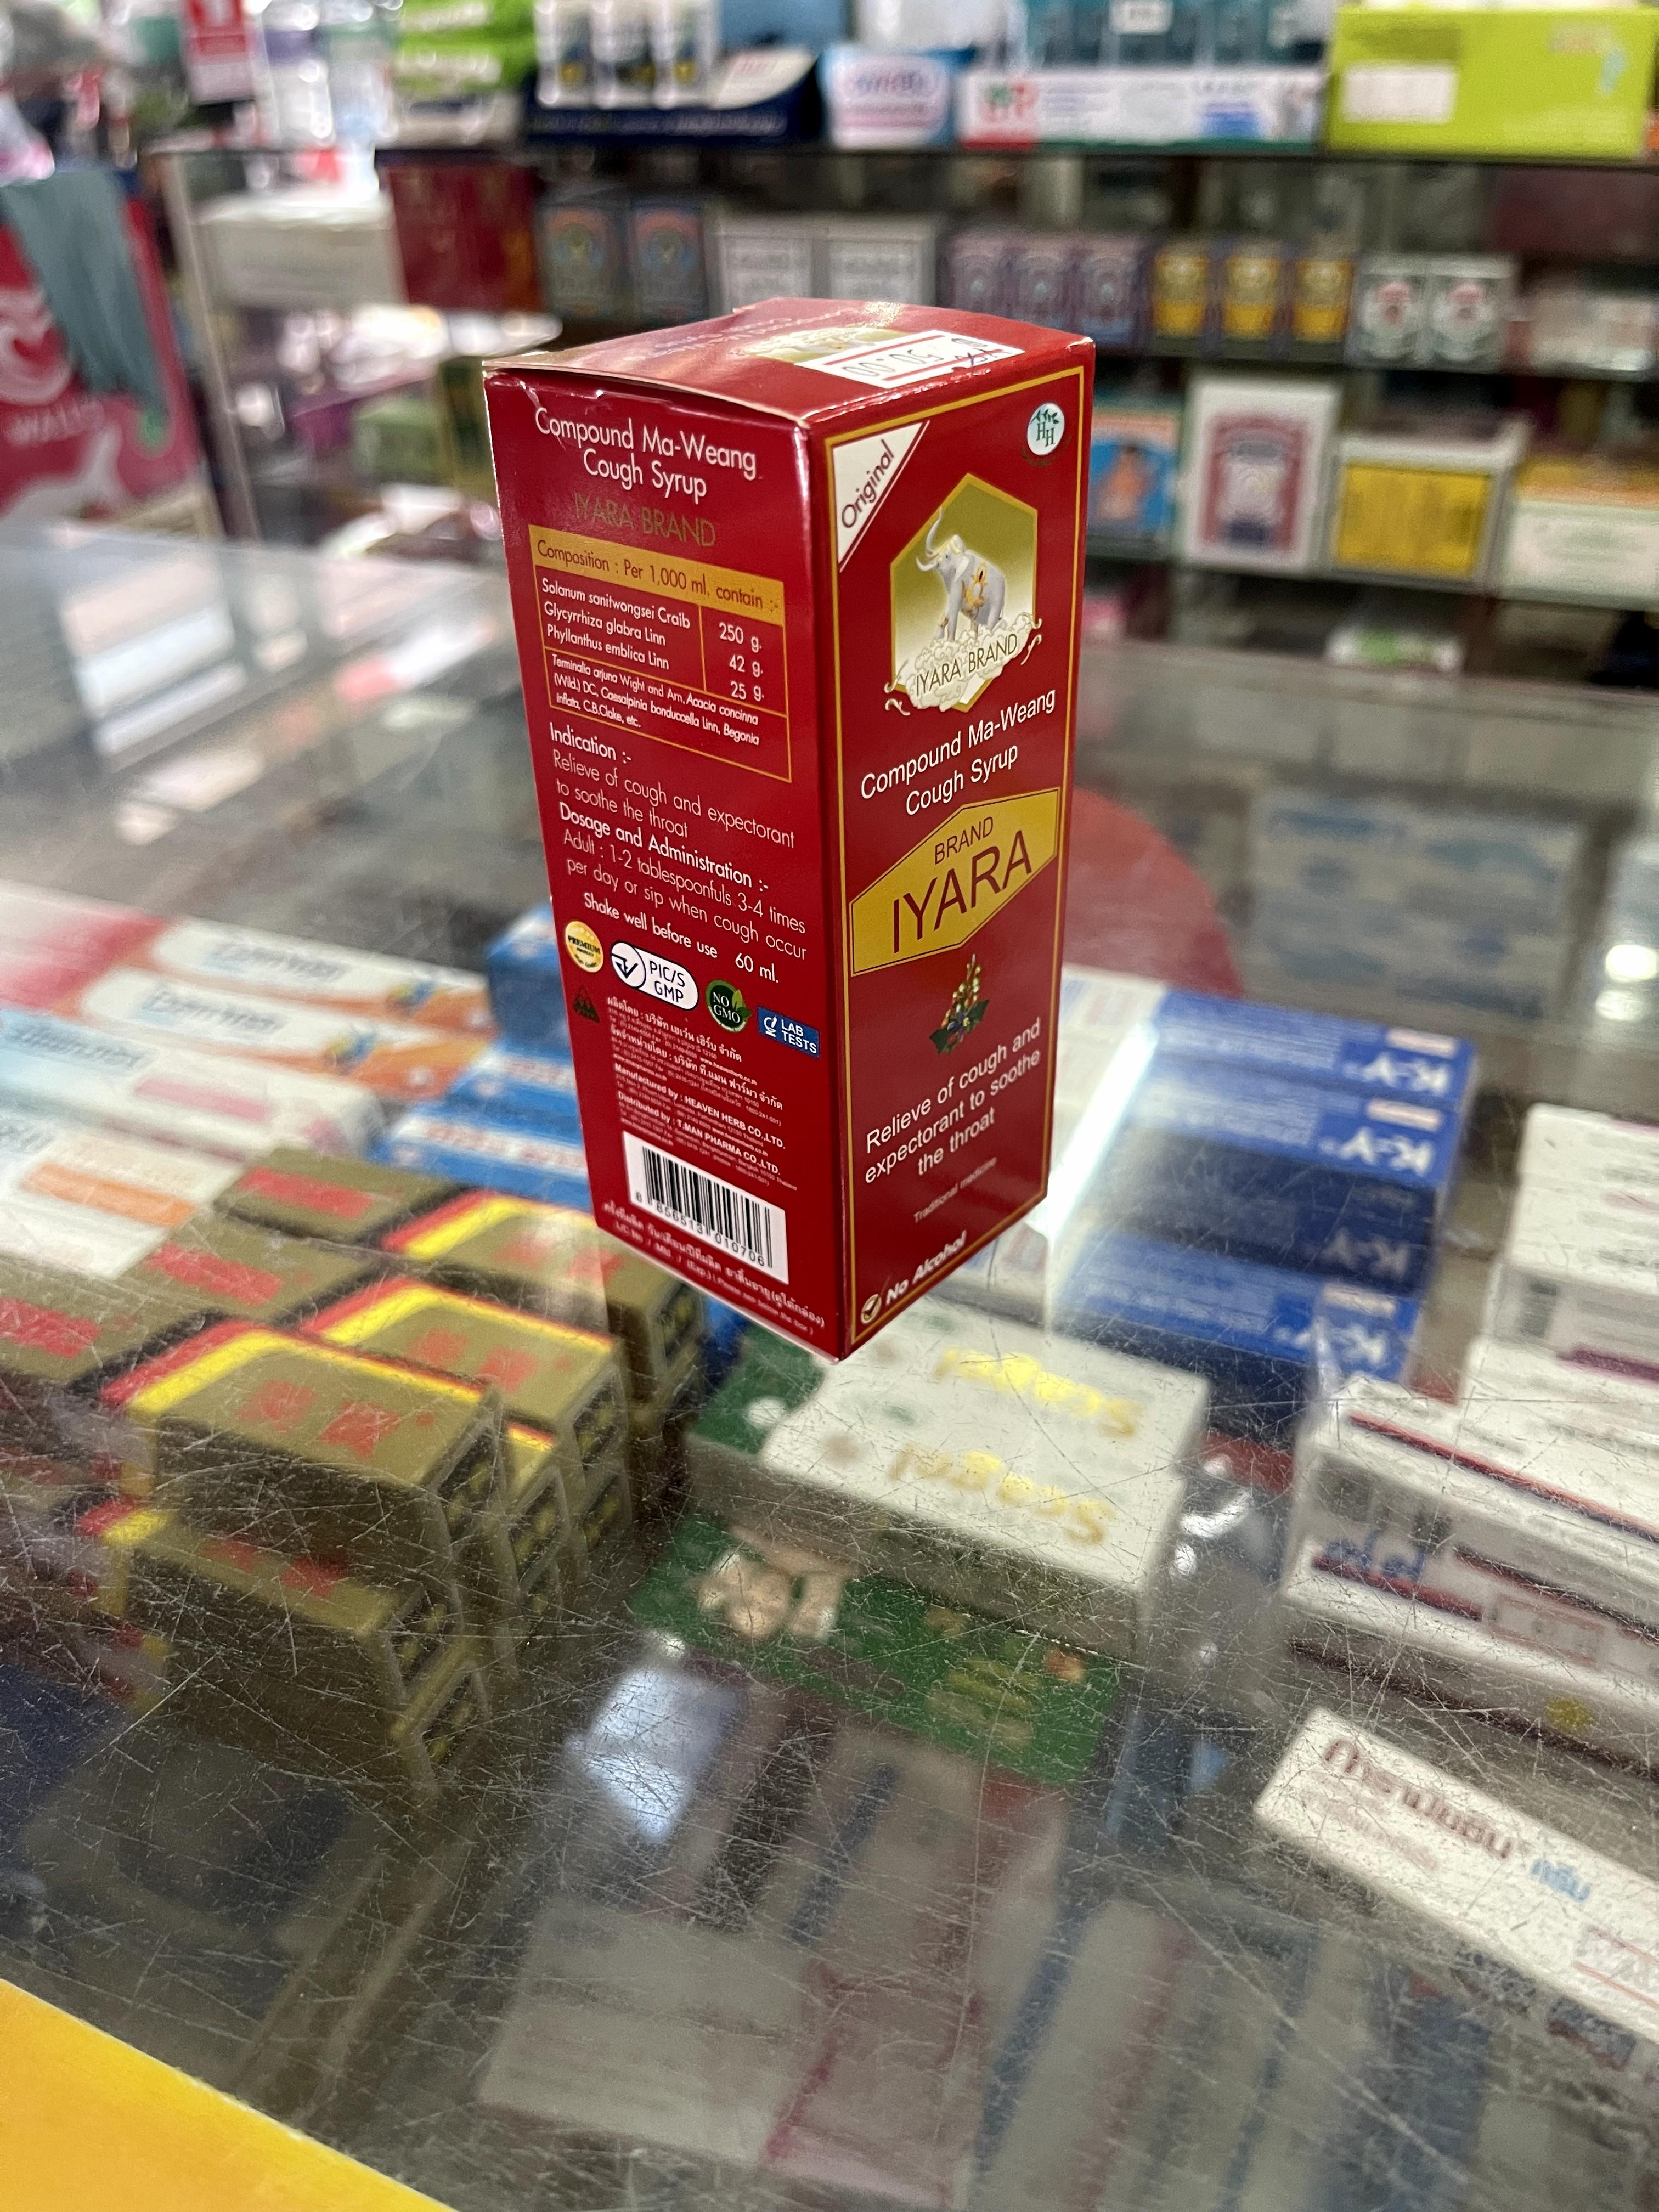Iyara: (486, 291, 1086, 1359)
